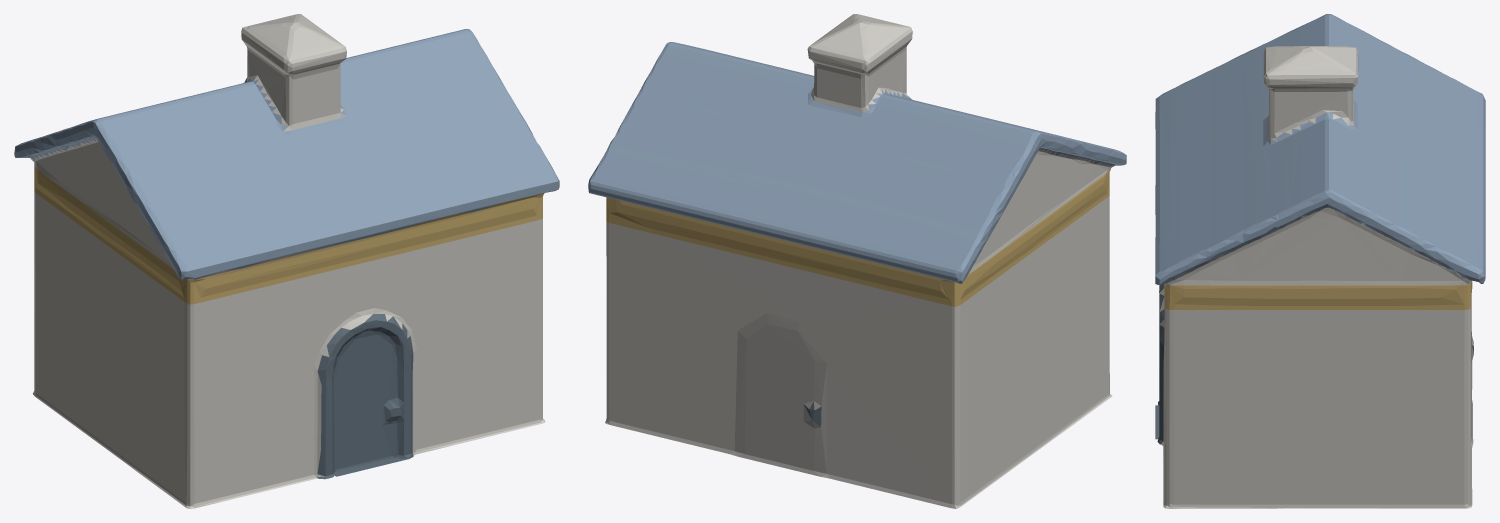
3 renders of one model, left to right at view 1: azimuth 30°, elevation 25°; view 2: azimuth 150°, elevation 25°; view 3: azimuth 270°, elevation 25°, orthographic. The views are drawn at different scales.
Visible parts, largest first — view 1: geometry_0; view 2: geometry_0; view 3: geometry_0.
Part boxes in pixels (x1=…): geometry_0: x1=14, y1=14, x2=559, y2=508; geometry_0: x1=588, y1=14, x2=1126, y2=508; geometry_0: x1=1155, y1=14, x2=1485, y2=508.
Size of the model in its own units: 0.8625 by 0.8401 by 0.6664.
